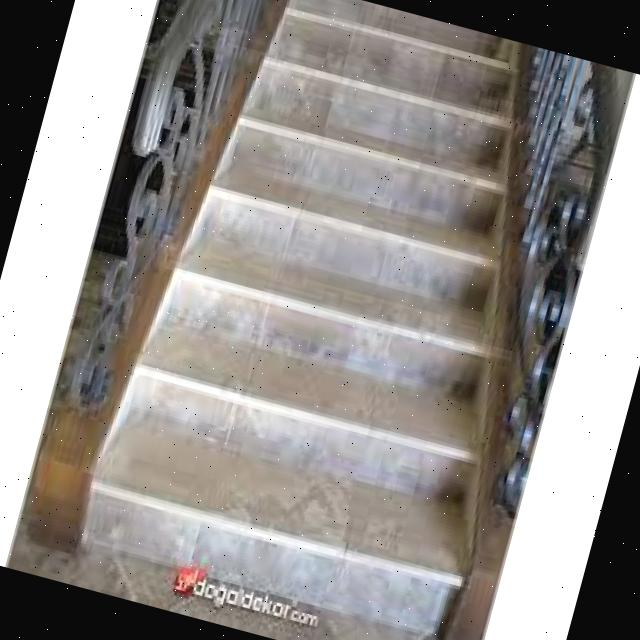stairs: (68, 0, 609, 640)
